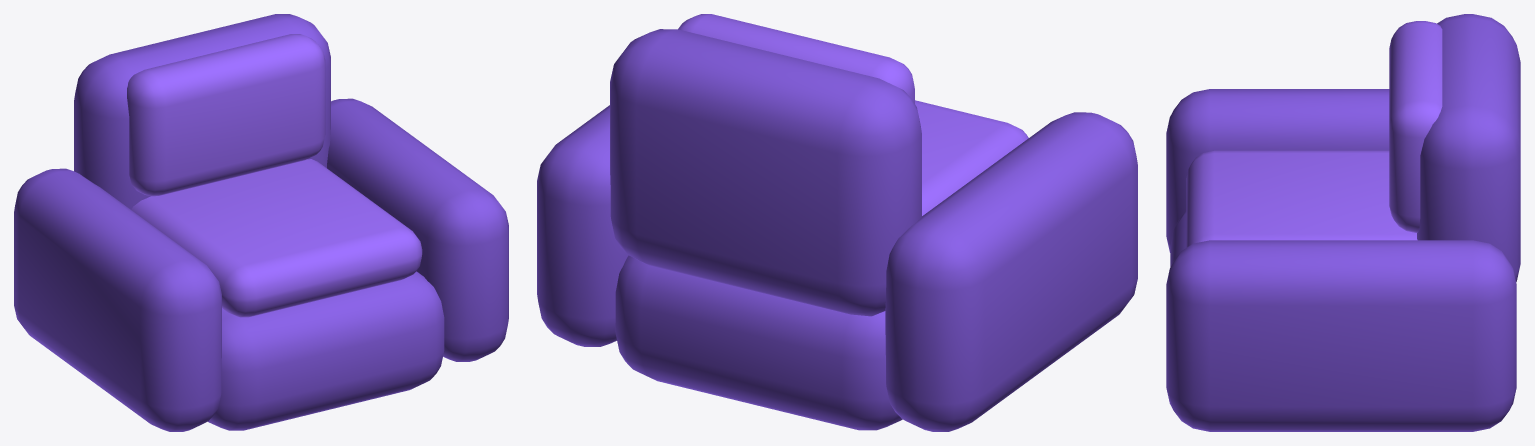
The model's file is armchair.glb.
The picture shows the model from 3 angles, left to right: view 1: azimuth 30°, elevation 25°; view 2: azimuth 150°, elevation 25°; view 3: azimuth 270°, elevation 25°; orthographic projection. The views are drawn at different scales.
Parts seen in each view (by area): view 1: Armchair; view 2: Armchair; view 3: Armchair.
Boxes of the visible parts, x1,y1,x2,y2 form: Armchair: [14, 14, 508, 431]; Armchair: [537, 14, 1137, 431]; Armchair: [1166, 14, 1520, 431].
Bounding box in the file's own units: 1.14 × 0.85 × 0.89.
